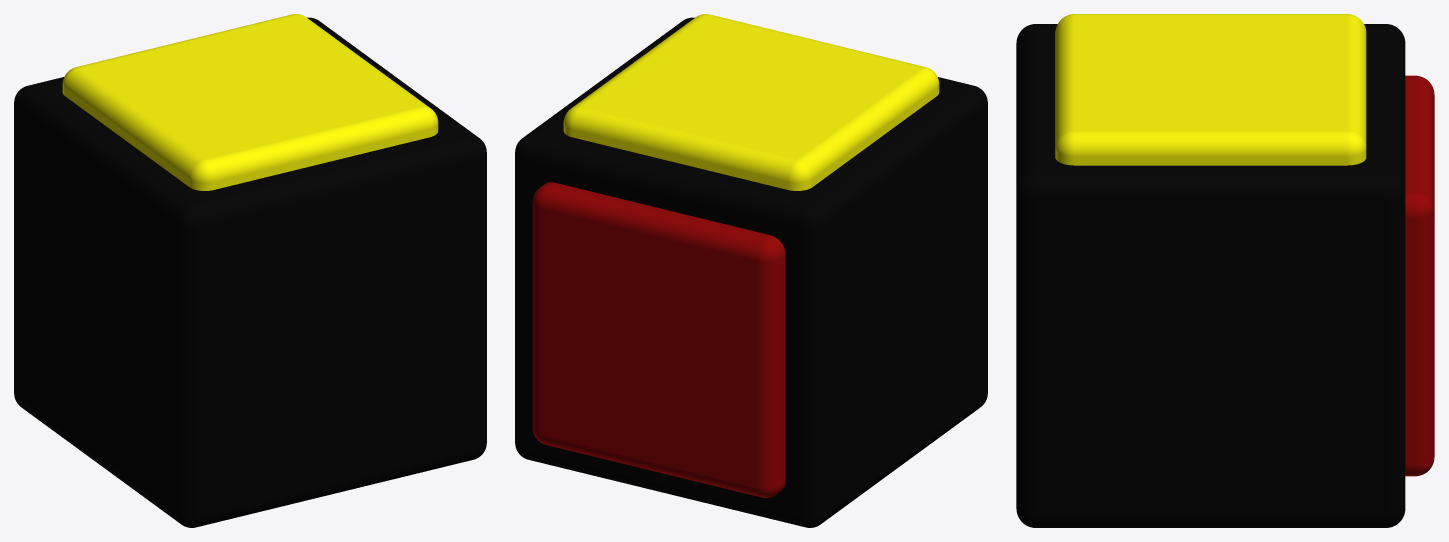
Rendered from cubinho(0, 1, -1).obj.
3 renders of one model, left to right at view 1: azimuth 30°, elevation 25°; view 2: azimuth 150°, elevation 25°; view 3: azimuth 270°, elevation 25°, orthographic. The views are drawn at different scales.
Parts seen in each view (by area): view 1: (0,_1,_-1); view 2: (0,_1,_-1); view 3: (0,_1,_-1).
Part boxes in pixels (left/top/right/bottom): (0,_1,_-1): left=14, top=14, right=486, bottom=527; (0,_1,_-1): left=515, top=14, right=987, bottom=527; (0,_1,_-1): left=1016, top=14, right=1434, bottom=527.
Size of the model in its own units: 2 by 2.15 by 2.15.
